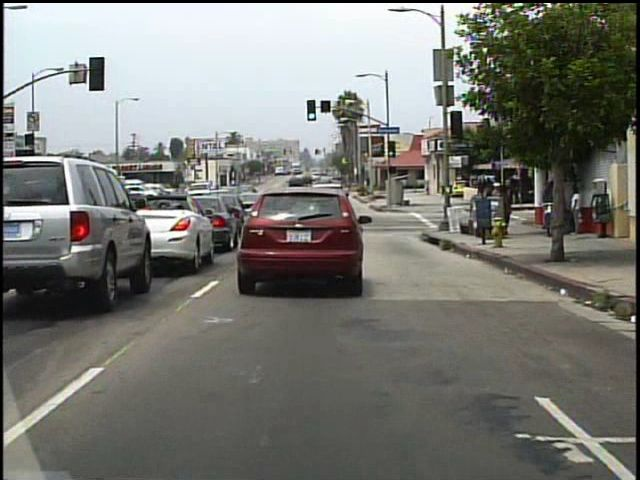person: (501, 182, 519, 236), (570, 186, 585, 237), (540, 182, 555, 228), (489, 181, 505, 223), (567, 183, 568, 238)
